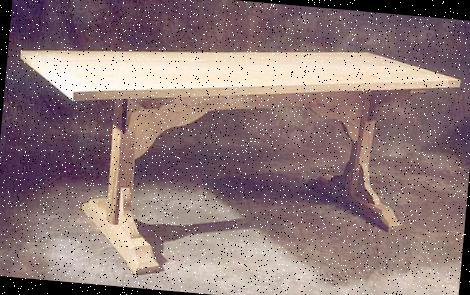Mesa: (0, 18, 461, 294)
